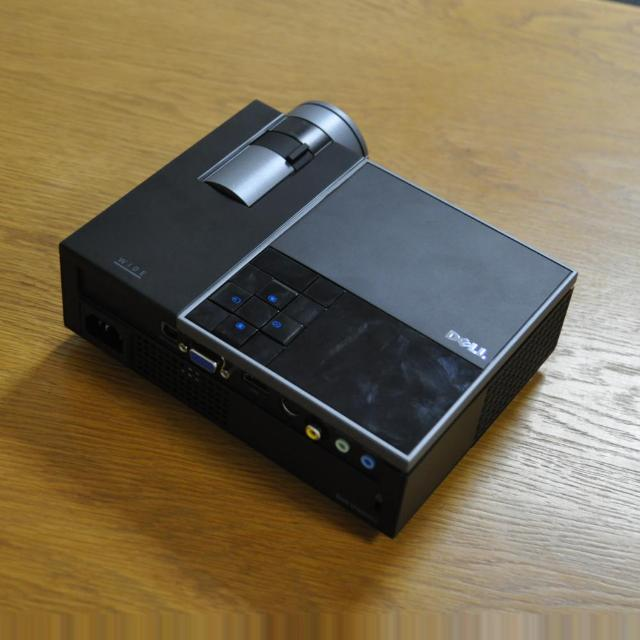Projector: (59, 98, 578, 538)
